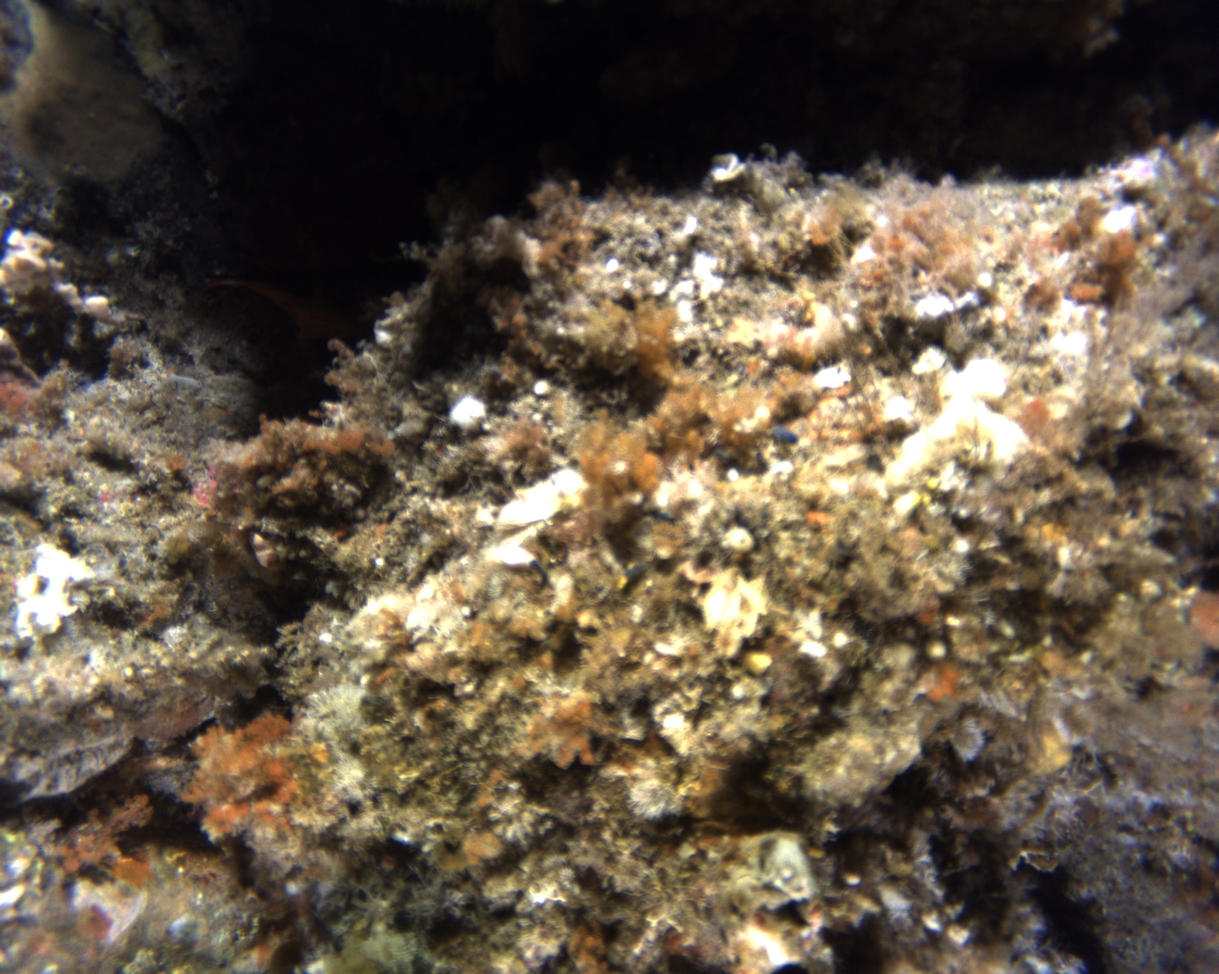Brachionichthyidae: (201, 272, 389, 374)
